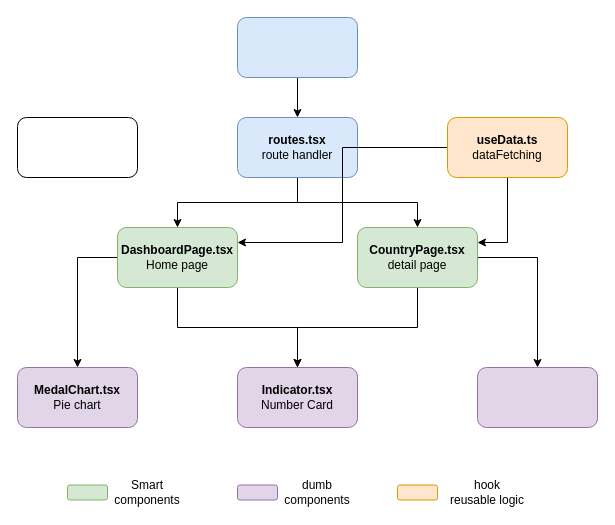
The diagram is 615 pixels wide and 525 high, and some of its shapes have lost their labels. The shapes that lost their labels are listed below. From the top down, each one's centre as x and y in pixels, then its label:
At pixel 297 47: "App.tsx entry point".
At pixel 77 147: "models.ts type definition".
At pixel 537 397: "EvolutionChart.tsx line chart country/medals".
